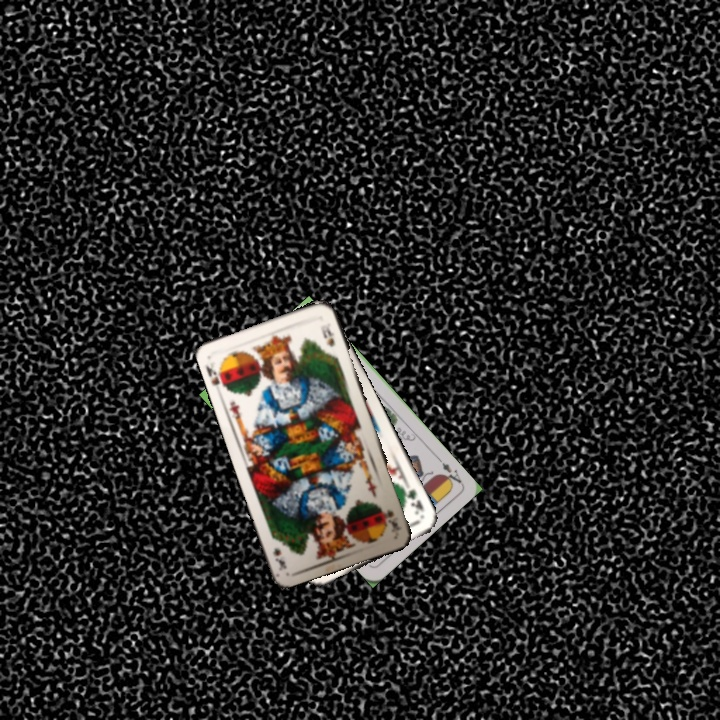EA: (433, 453, 464, 490)
GK: (398, 484, 426, 518)
SK: (202, 360, 230, 392), (380, 505, 404, 535)
